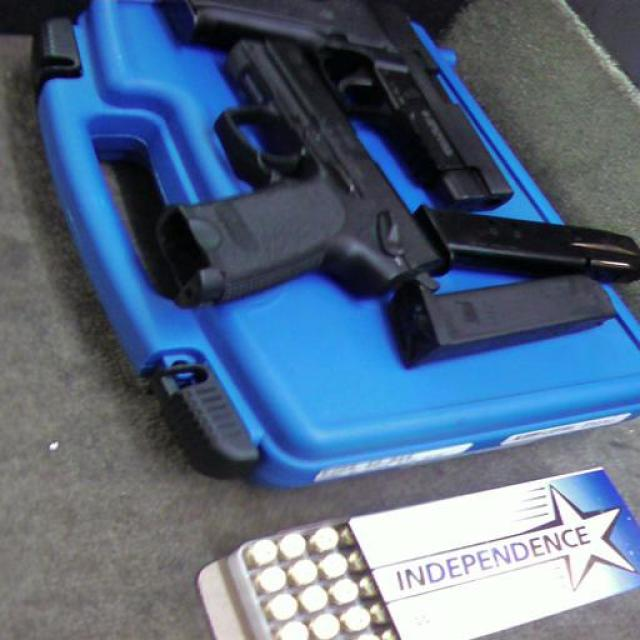pistol: (152, 34, 436, 316), (157, 1, 514, 213)
